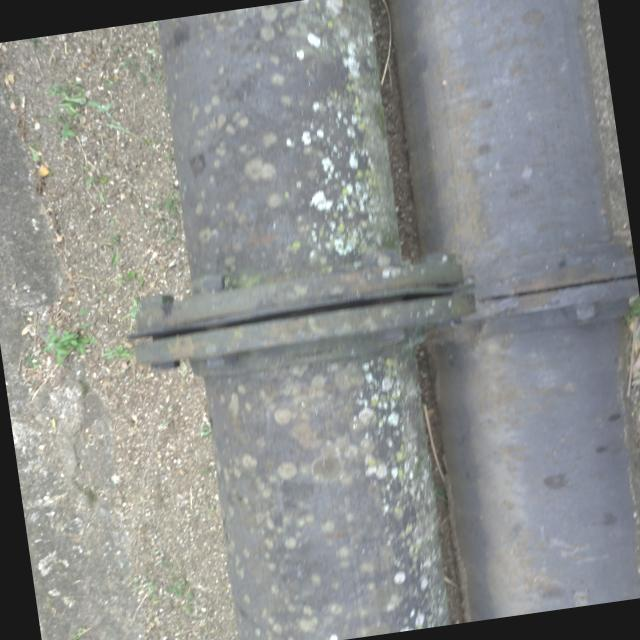gas: (90, 0, 506, 640), (384, 0, 640, 621)
